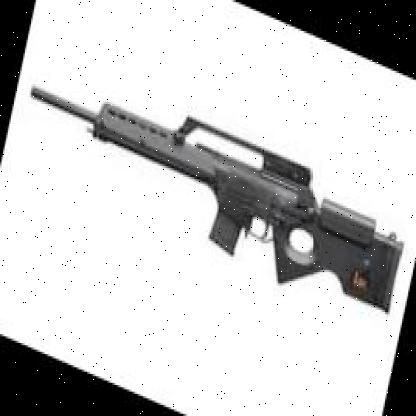rifle: (6, 48, 412, 334)
